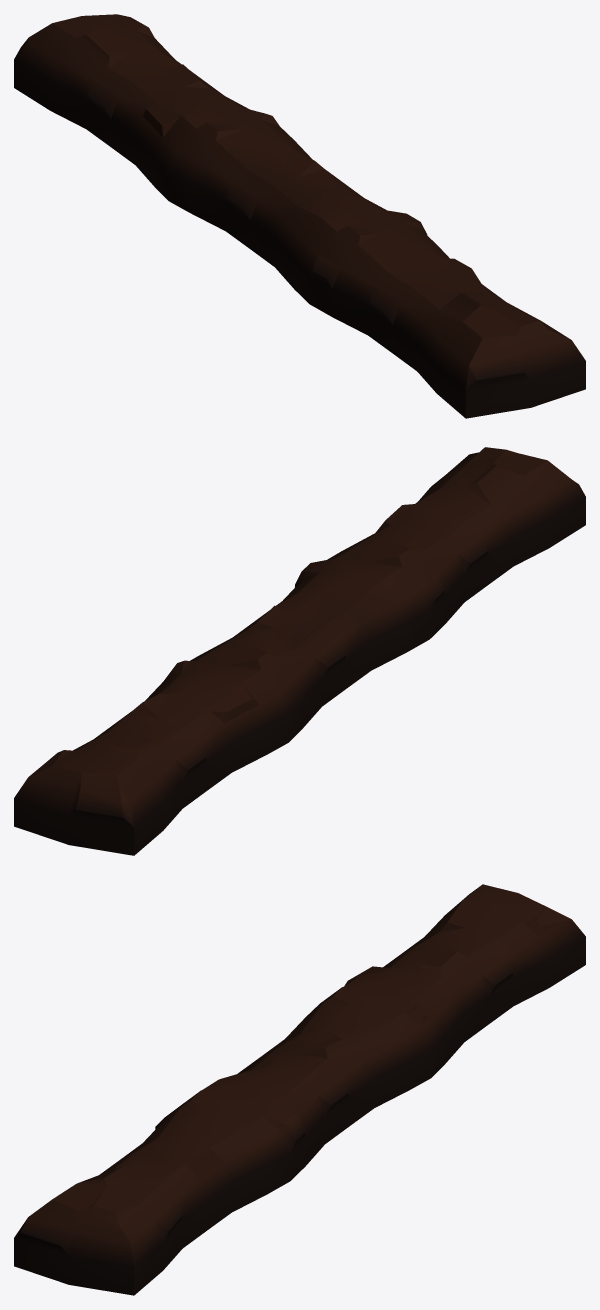
The model's file is Crop9x1.fbx.
3 views of the same model, one above another, from view 1: azimuth 30°, elevation 25°; view 2: azimuth 150°, elevation 25°; view 3: azimuth 330°, elevation 25° (orthographic).
Parts seen in each view (by area): view 1: Crop9x1; view 2: Crop9x1; view 3: Crop9x1.
Part boxes in pixels (<box>): Crop9x1: <box>14,14,585,418</box>; Crop9x1: <box>14,447,585,855</box>; Crop9x1: <box>14,884,585,1295</box>.
Size of the model in its own units: 200 by 115 by 1305.
